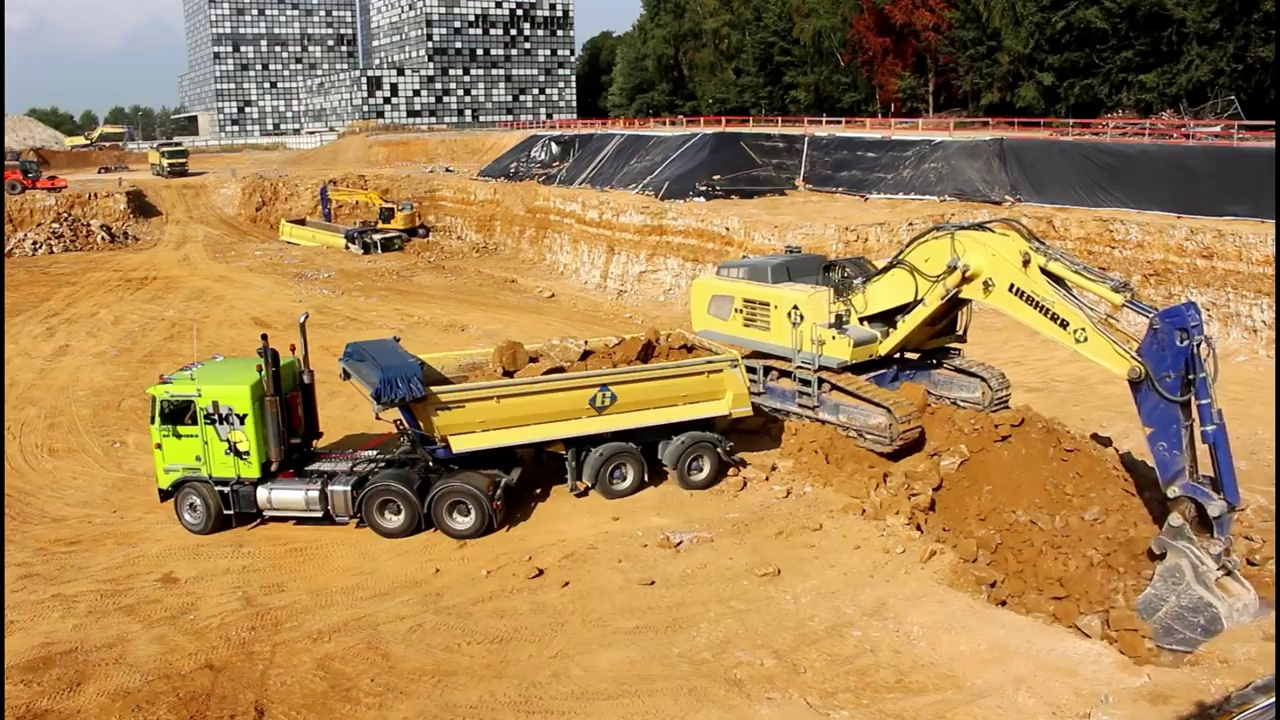compactor: (5, 161, 67, 200)
excavator: (667, 213, 1270, 662), (315, 181, 432, 244), (63, 117, 139, 158)
truck: (146, 309, 756, 545), (277, 210, 412, 285), (145, 136, 195, 183)
